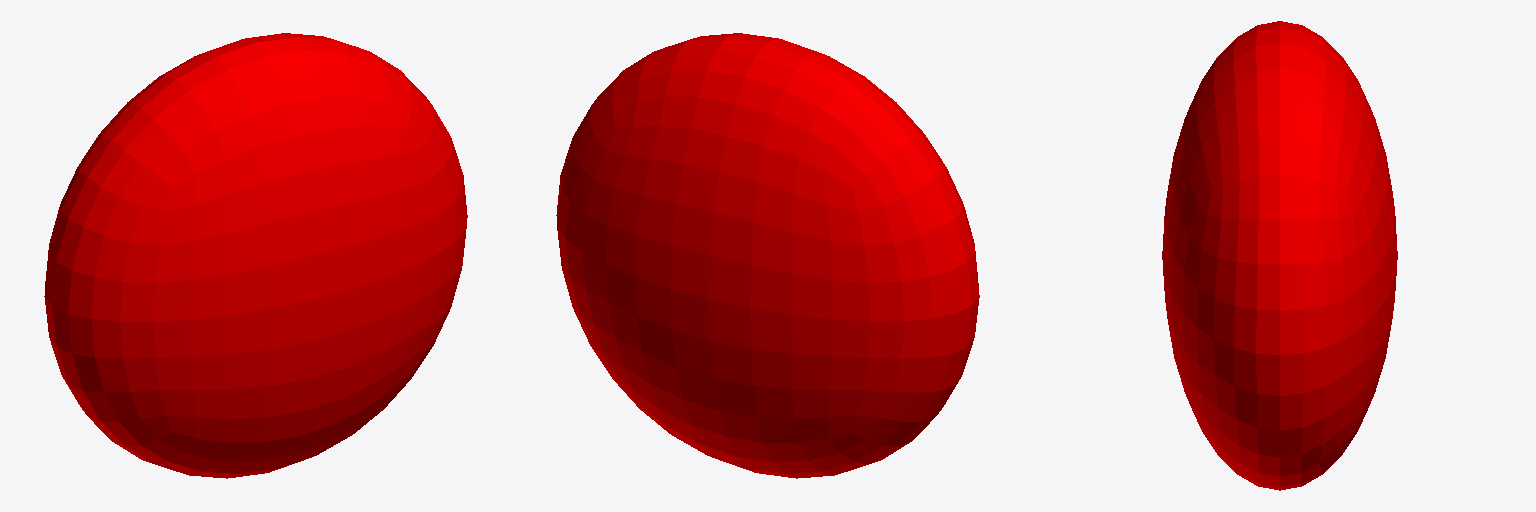
File: helloAli.obj
The picture shows the model from 3 angles: view 1: azimuth 30°, elevation 25°; view 2: azimuth 150°, elevation 25°; view 3: azimuth 270°, elevation 25°; orthographic projection.
Visible parts, largest first — view 1: Sphere; view 2: Sphere; view 3: Sphere.
Part boxes in pixels (left/top/right/bottom): Sphere: left=44, top=33, right=467, bottom=478; Sphere: left=556, top=33, right=979, bottom=478; Sphere: left=1162, top=21, right=1397, bottom=490.
Bounding box in the file's own units: 2 × 2 × 1.